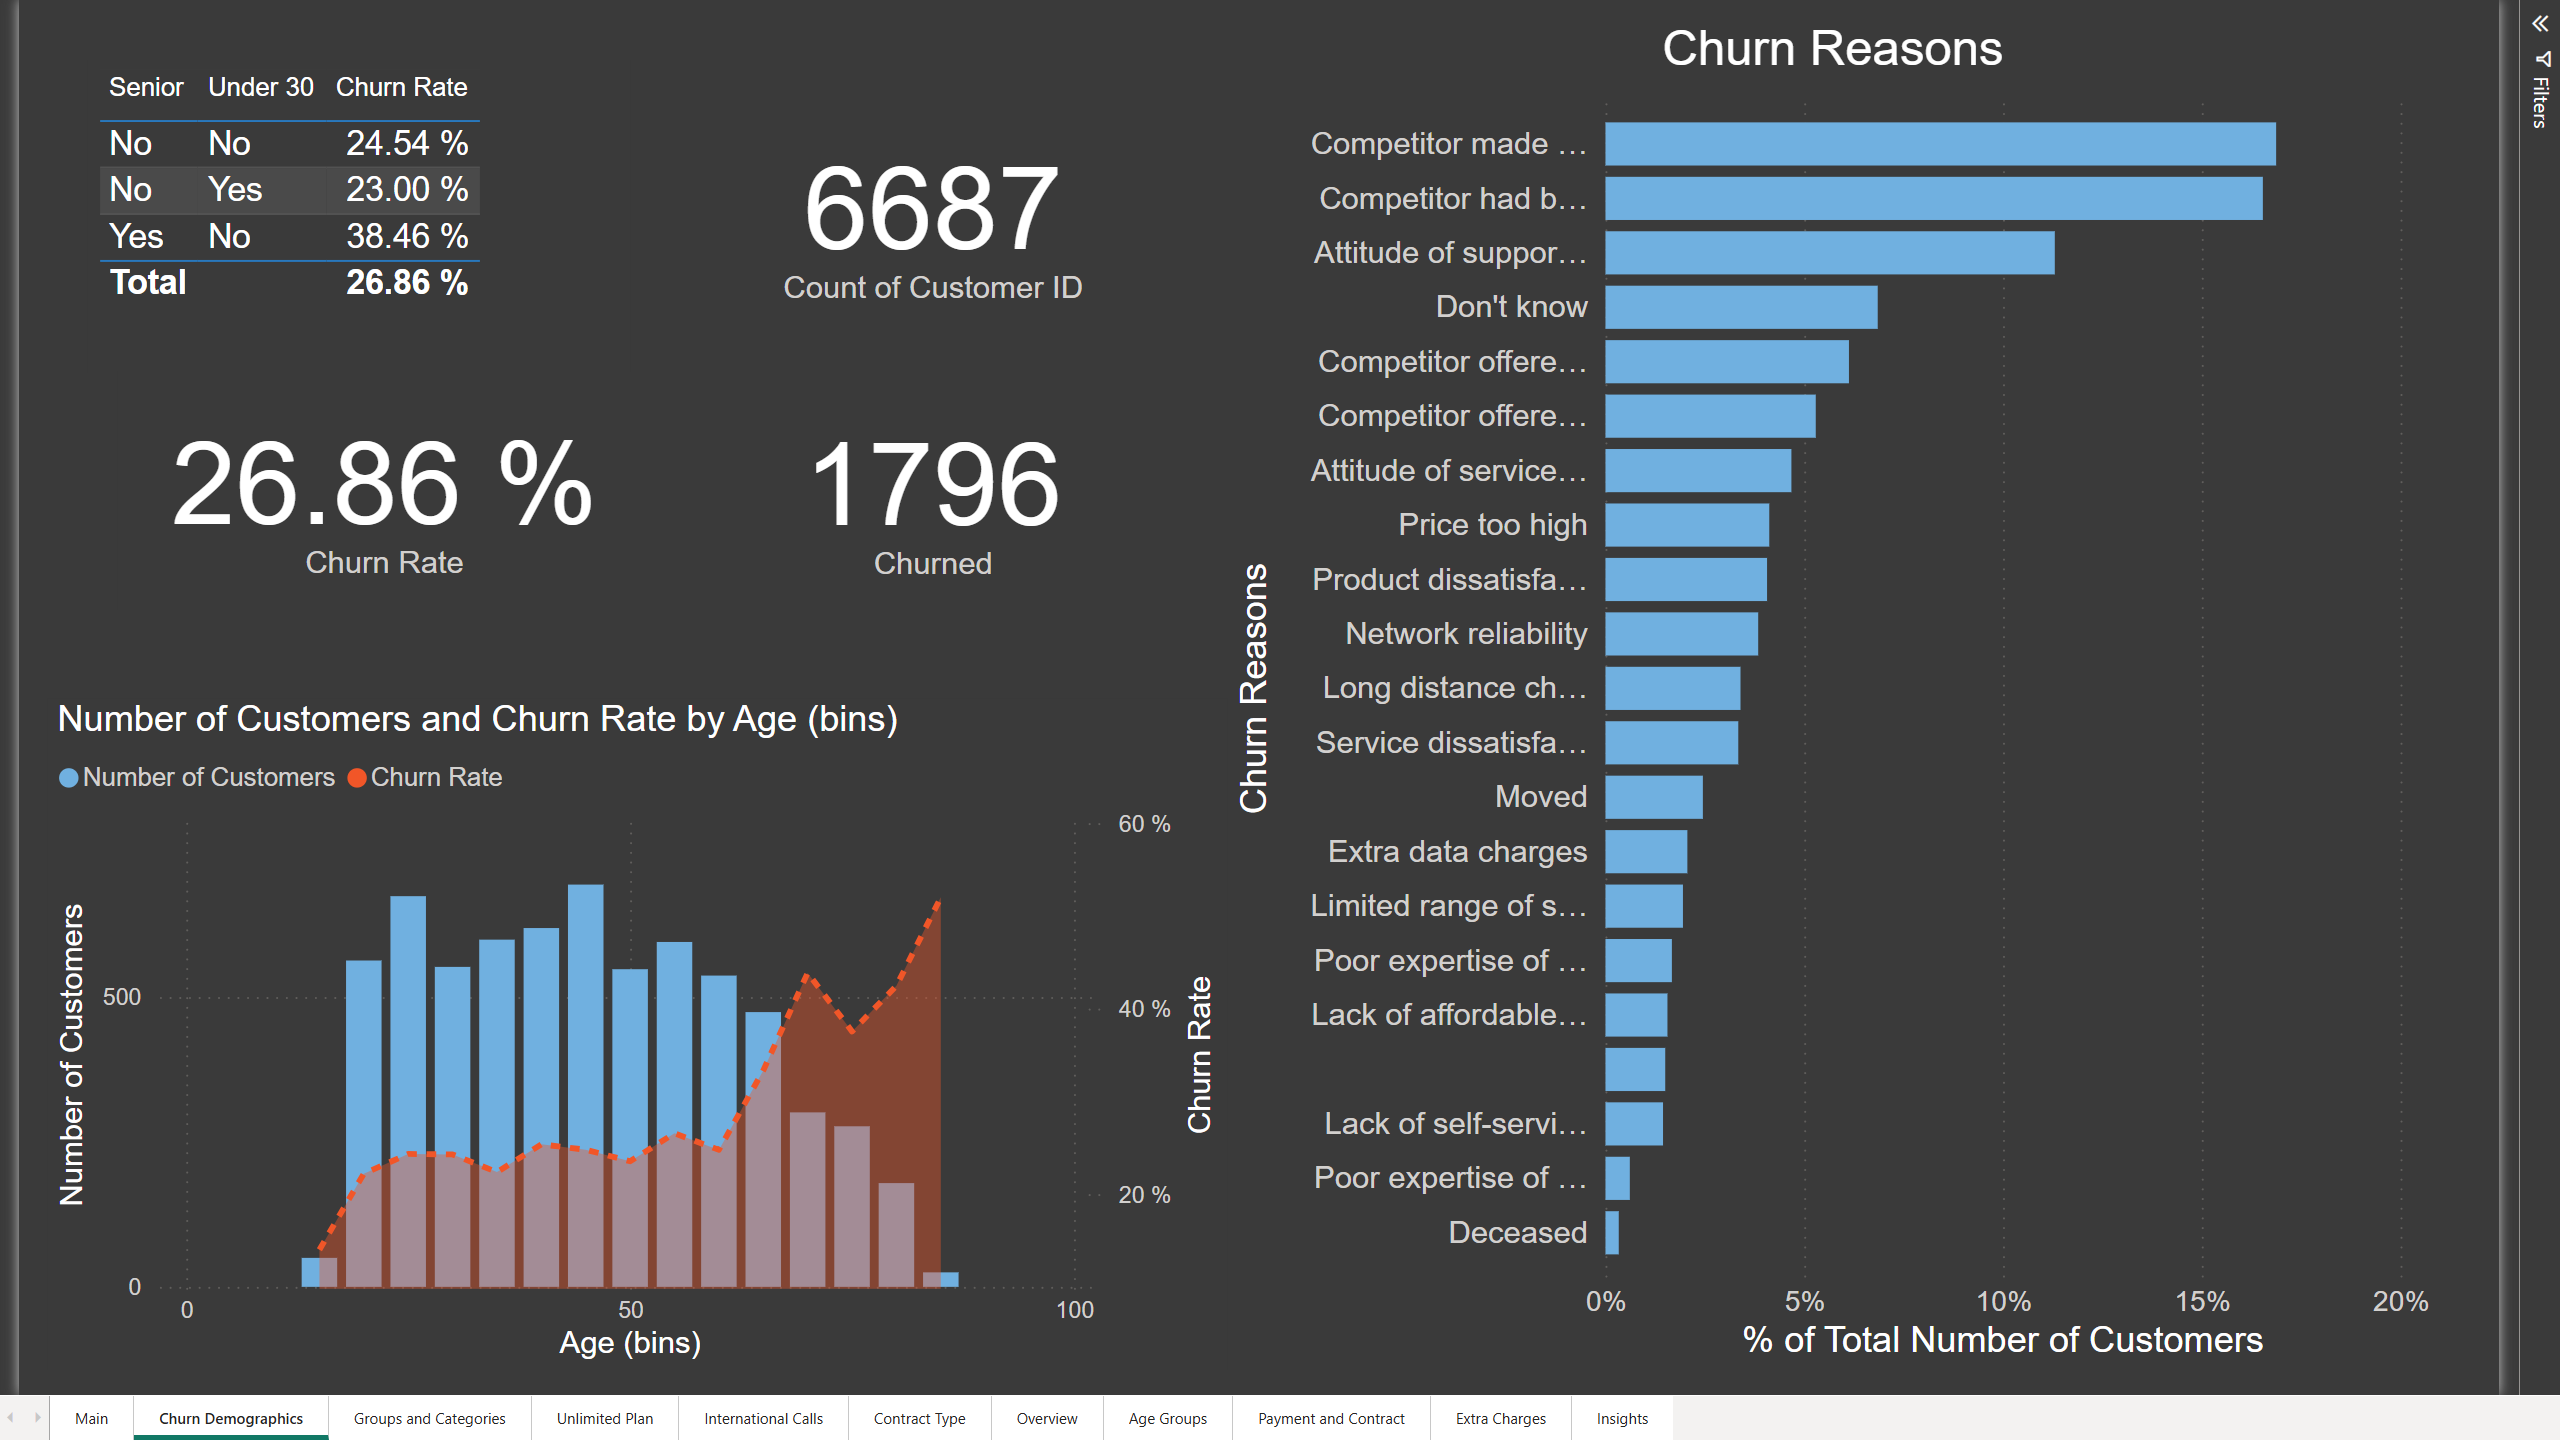

The page's visual inventory and layout, read from the dashboard file:
{"tool":"powerbi","page":{"name":"Churn Demographics","canvas":[1280,720],"ordinal":1},"visuals":[{"type":"tableEx","fields":{"Values":["Databel - Data.Senior","Databel - Data.Under 30","Databel - Data.Churn Rate"]},"box":[35.2,30.8,280.1,161.3],"z":0},{"type":"clusteredBarChart","title":"Churn Reasons","fields":{"Category":["Databel - Data.Churn Reason"],"Y":["CountNonNull(Databel - Data.Number of Customers in Group)"]},"box":[623.2,10.3,626.2,696.5],"z":1000},{"type":"card","fields":{"Values":["Databel - Data.Churn Rate"]},"box":[51,191.8,275.7,123.5],"z":2000},{"type":"lineStackedColumnComboChart","fields":{"Category":["Databel - Data.Age (bins)"],"Y":["Databel - Data.Number of costumers"],"Y2":["Databel - Data.Churn Rate"]},"box":[14.7,360.7,608.6,346.1],"z":3000},{"type":"card","fields":{"Values":["Count(Databel - Data.Customer ID)"]},"box":[366.6,49.9,211.2,123.2],"z":4000},{"type":"card","fields":{"Values":["Sum(Databel - Data.Churned)"]},"box":[366.6,192.1,211.2,123.2],"z":5000}]}

Visuals, with their boxes on the page's 1280x720 design canvas (x1, y1, x2, y2). These are canvas units, not pixel positions in the 2560x1440 screenshot, which may show the page scaled, cropped or inside an application window:
tableEx - Databel - Data.Senior x Databel - Data.Under 30: <box>35,31,315,192</box>
"Churn Reasons" clusteredBarChart: <box>623,10,1249,707</box>
card - Databel - Data.Churn Rate: <box>51,192,327,315</box>
lineStackedColumnComboChart - Databel - Data.Age (bins) x Databel - Data.Number of costumers: <box>15,361,623,707</box>
card - Count(Databel - Data.Customer ID): <box>367,50,578,173</box>
card - Sum(Databel - Data.Churned): <box>367,192,578,315</box>
